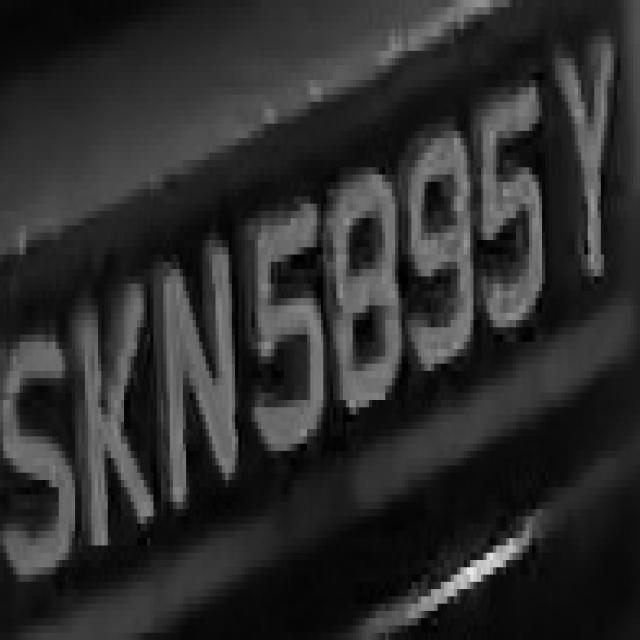5: (238, 182, 324, 473), (474, 66, 548, 349)
8: (323, 160, 405, 444)
9: (402, 109, 480, 386)
K: (72, 255, 150, 560)
N: (154, 225, 248, 531)
S: (9, 284, 68, 604)
Y: (548, 36, 620, 298)
